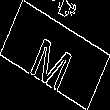M_NE: (29, 22, 81, 88)
